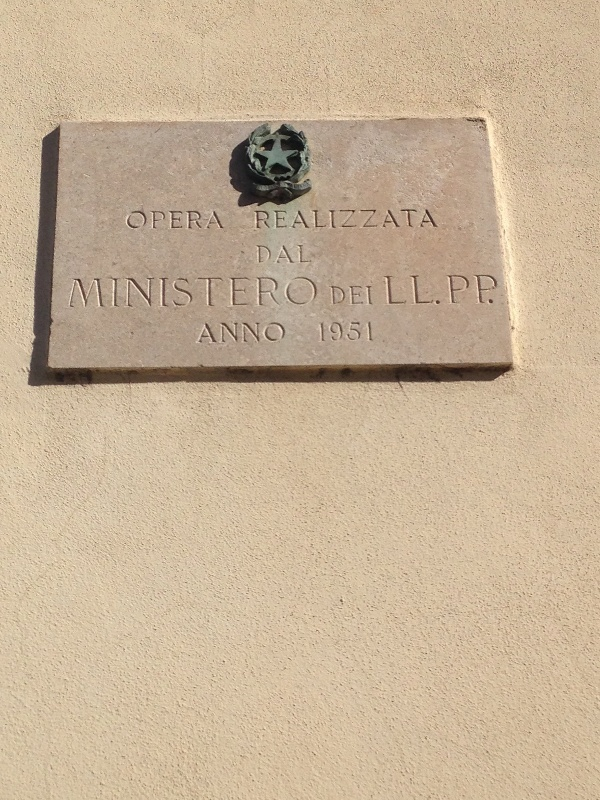text: (81, 277, 96, 314), (97, 277, 112, 314), (113, 277, 128, 314), (129, 277, 144, 314), (145, 277, 160, 314), (161, 277, 176, 314), (177, 277, 192, 314), (193, 277, 208, 314), (209, 277, 224, 314), (225, 277, 240, 314), (241, 277, 256, 314), (257, 277, 272, 314), (273, 277, 288, 314), (289, 277, 304, 314), (385, 275, 400, 308), (401, 275, 416, 308), (417, 275, 432, 308), (449, 275, 464, 306), (465, 275, 480, 306), (481, 275, 496, 306), (305, 277, 317, 314), (209, 322, 224, 346), (225, 322, 240, 346), (241, 322, 256, 346), (257, 322, 272, 346), (433, 275, 443, 308), (257, 208, 272, 230), (273, 208, 288, 230), (289, 208, 304, 230), (305, 208, 320, 230), (321, 208, 336, 230), (337, 208, 352, 230), (353, 208, 368, 230), (369, 208, 384, 230), (385, 208, 400, 230), (401, 208, 416, 230), (417, 208, 432, 230), (129, 210, 144, 231), (145, 210, 160, 231), (161, 210, 176, 231), (177, 210, 192, 231), (193, 210, 208, 231), (209, 210, 224, 231), (321, 322, 336, 343), (337, 322, 352, 343), (353, 322, 368, 343), (257, 245, 272, 265), (273, 245, 288, 265), (289, 245, 304, 265), (337, 286, 352, 306), (353, 286, 368, 306), (72, 277, 80, 314), (273, 322, 284, 346), (305, 245, 312, 265), (329, 286, 336, 306), (433, 208, 439, 230), (497, 275, 500, 306), (369, 322, 373, 343), (369, 286, 373, 306), (205, 322, 208, 346), (254, 208, 256, 230), (447, 275, 448, 306), (127, 210, 128, 231), (319, 322, 320, 343), (255, 245, 256, 265)
